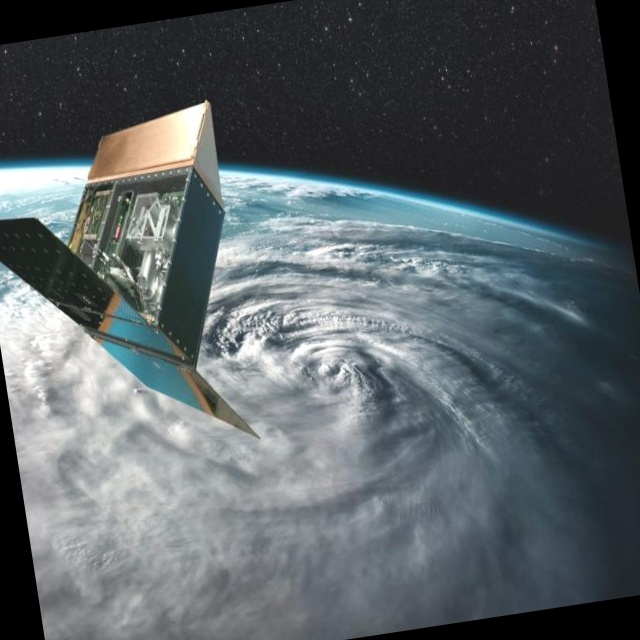satellite: (0, 82, 273, 482)
